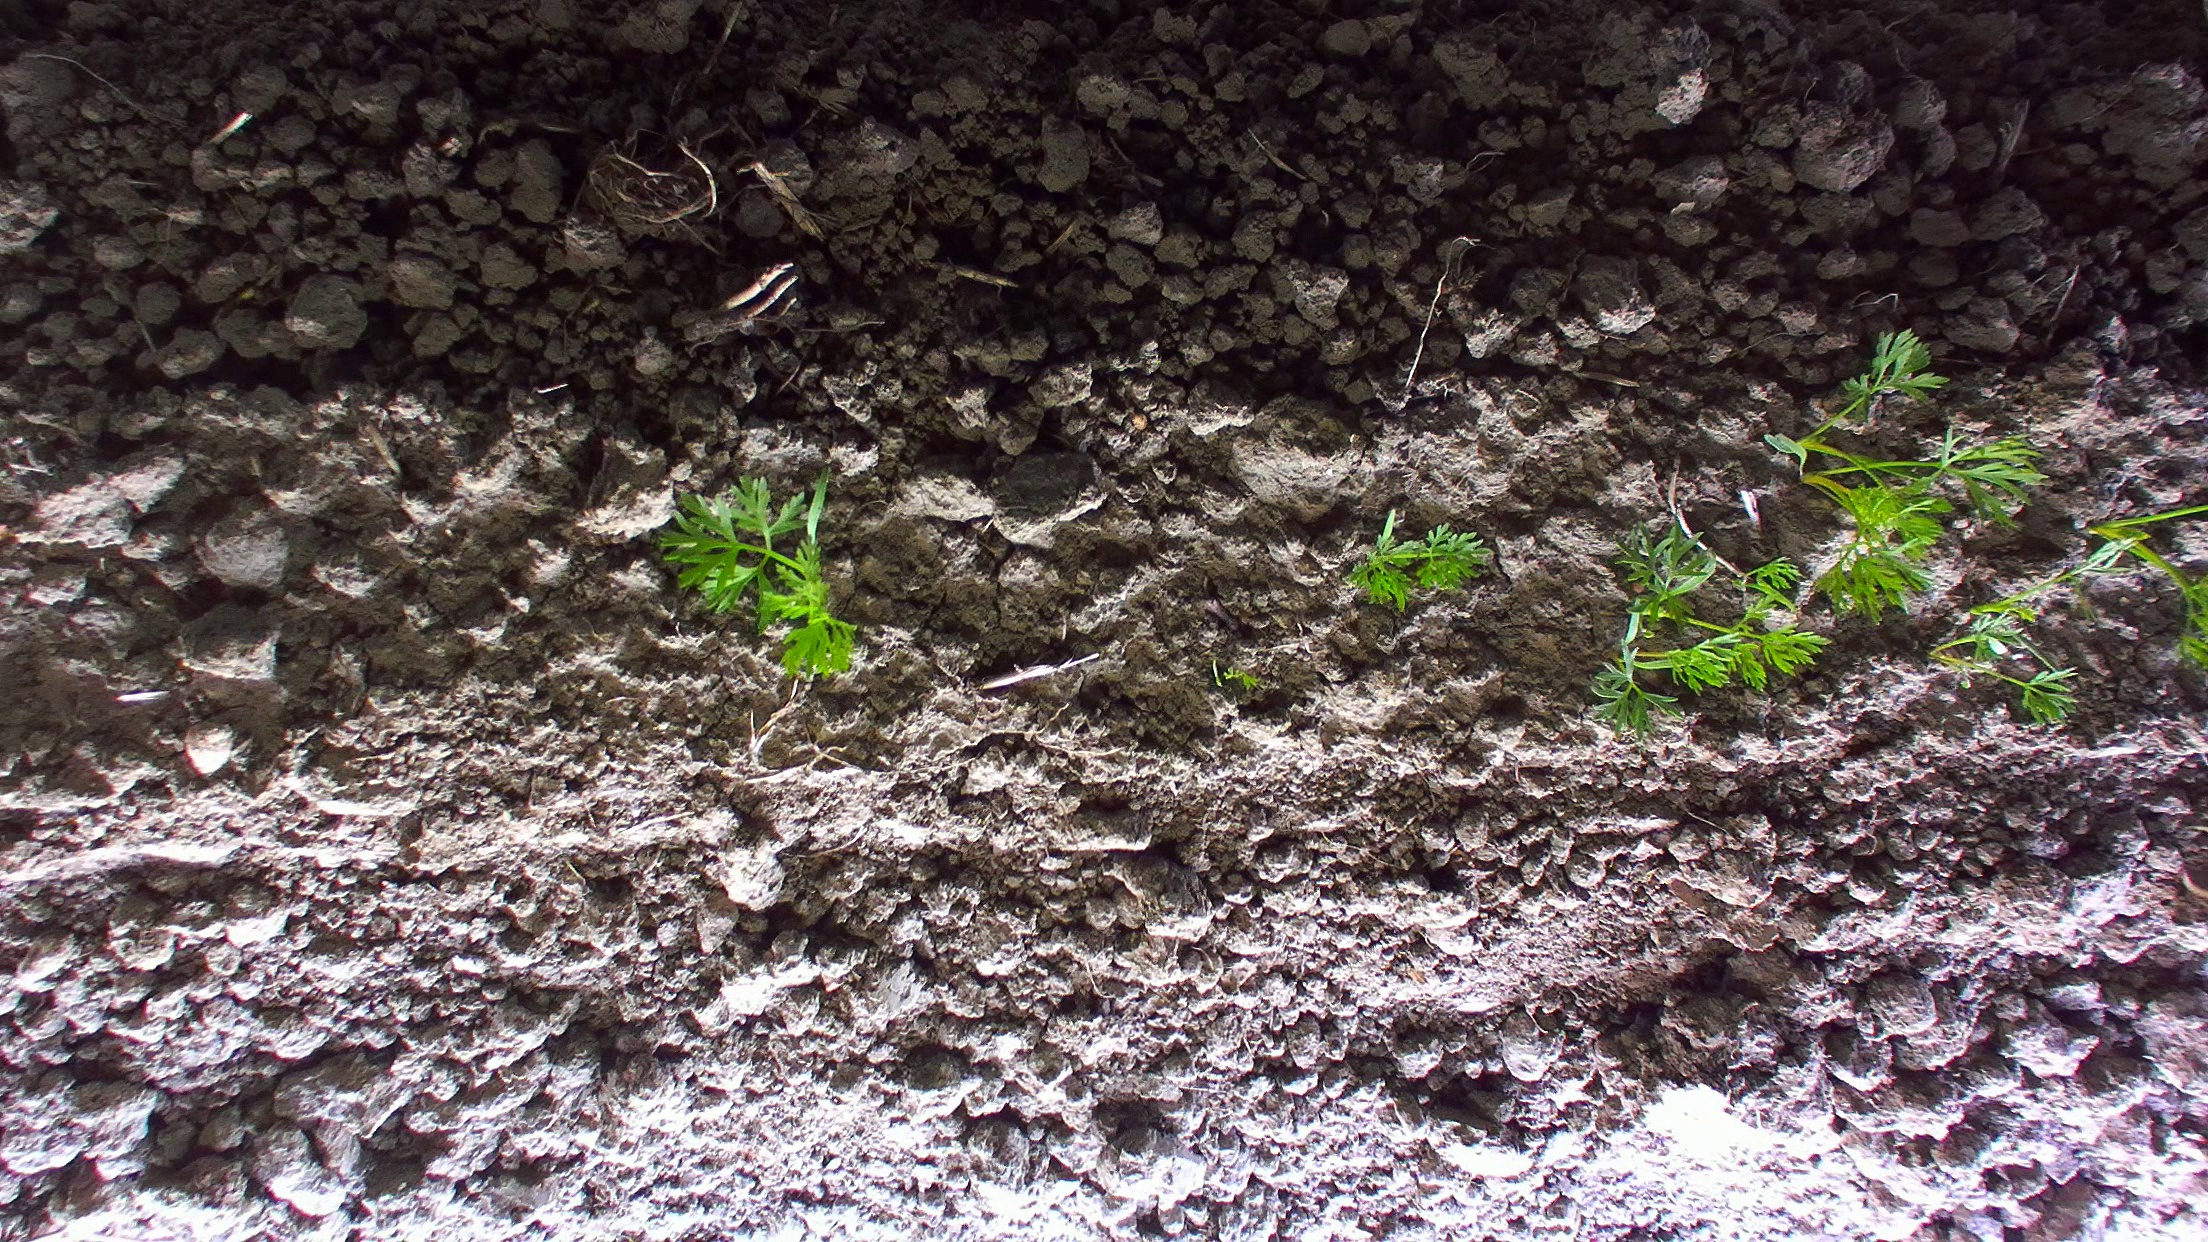Crop: (1759, 328, 2046, 625), (1591, 513, 1829, 742), (655, 472, 860, 681), (2050, 500, 2206, 670), (1344, 508, 1494, 613), (1940, 587, 2037, 676), (2002, 648, 2076, 728)
